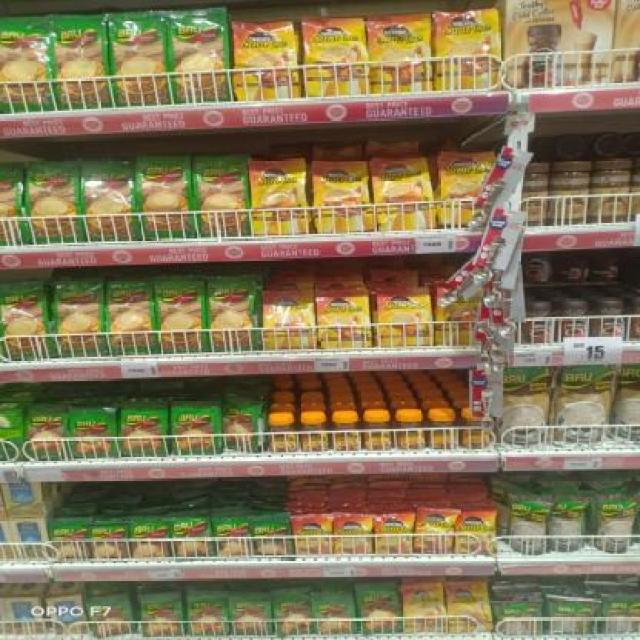Coffee: (304, 18, 368, 96), (235, 22, 298, 101), (368, 16, 432, 93), (436, 12, 499, 90), (250, 160, 307, 235), (374, 160, 432, 231), (313, 161, 370, 233), (438, 152, 491, 226), (261, 291, 314, 349), (317, 293, 371, 349), (378, 295, 433, 347), (436, 288, 479, 344), (446, 582, 489, 632), (403, 585, 446, 632), (416, 509, 452, 554), (457, 514, 494, 554), (294, 517, 332, 554), (375, 518, 413, 553), (338, 517, 370, 554), (523, 304, 551, 344), (393, 415, 425, 450), (594, 304, 626, 338), (428, 413, 458, 449), (364, 415, 394, 450), (268, 417, 298, 452), (301, 417, 330, 452), (462, 412, 489, 448), (560, 304, 588, 338), (331, 417, 358, 451)
